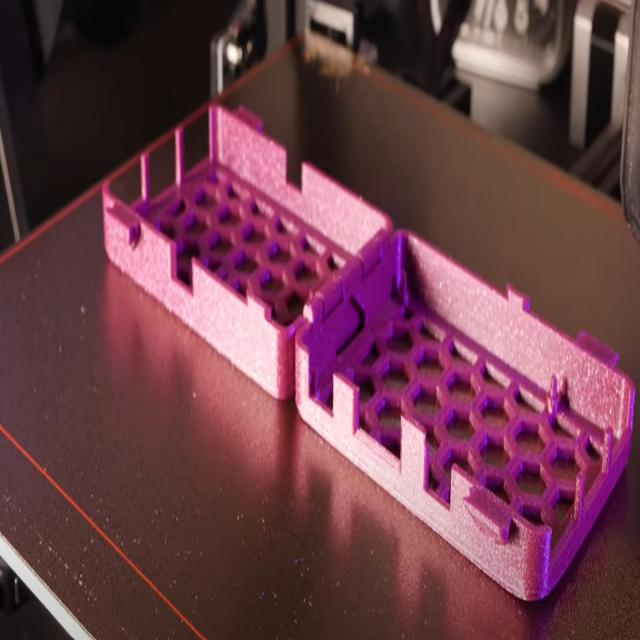Without deffect: (91, 60, 635, 629)
